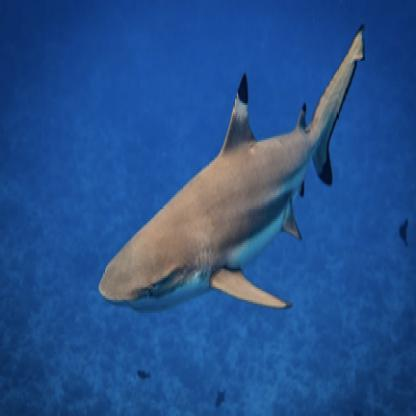shark: (99, 20, 366, 318)
